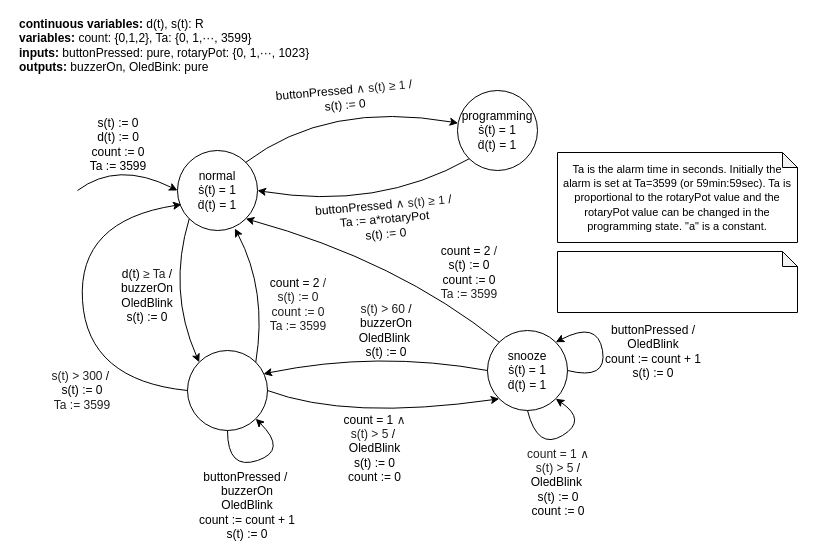
This 815x559 diagram has some shape labels left out. Each missing label, with the centre of its shape:
"alarm ṡ(t) = 1 ḋ(t) = 1" belongs at point 227,390.
"Some of the guards have some extra time conditions to eliminate chattering." belongs at point 677,281.
